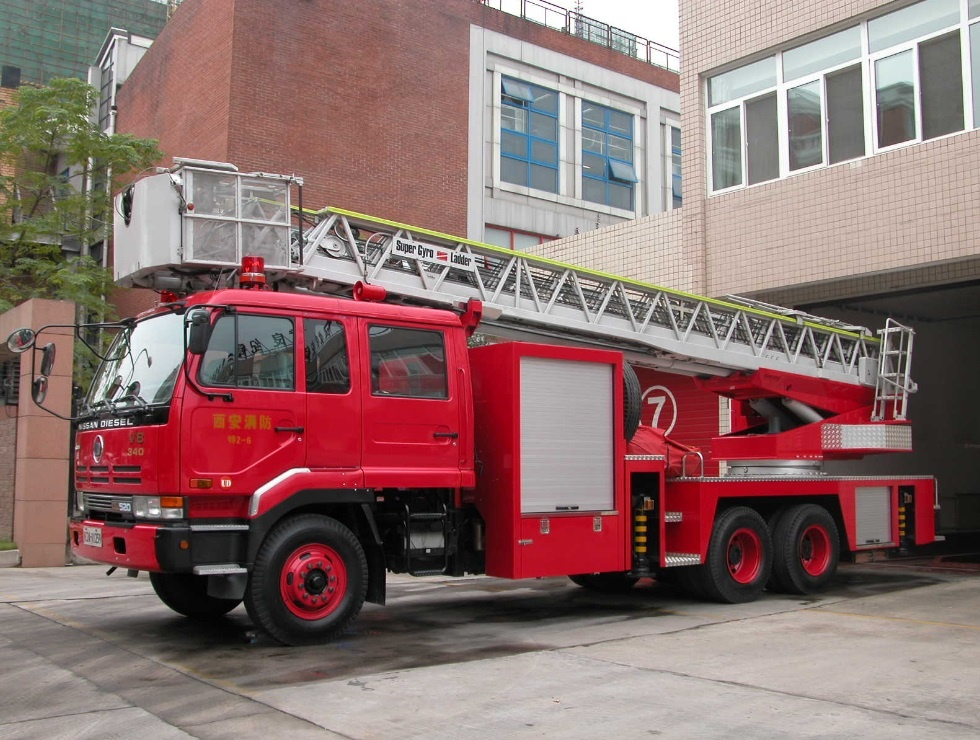fire engine: (70, 156, 952, 669)
